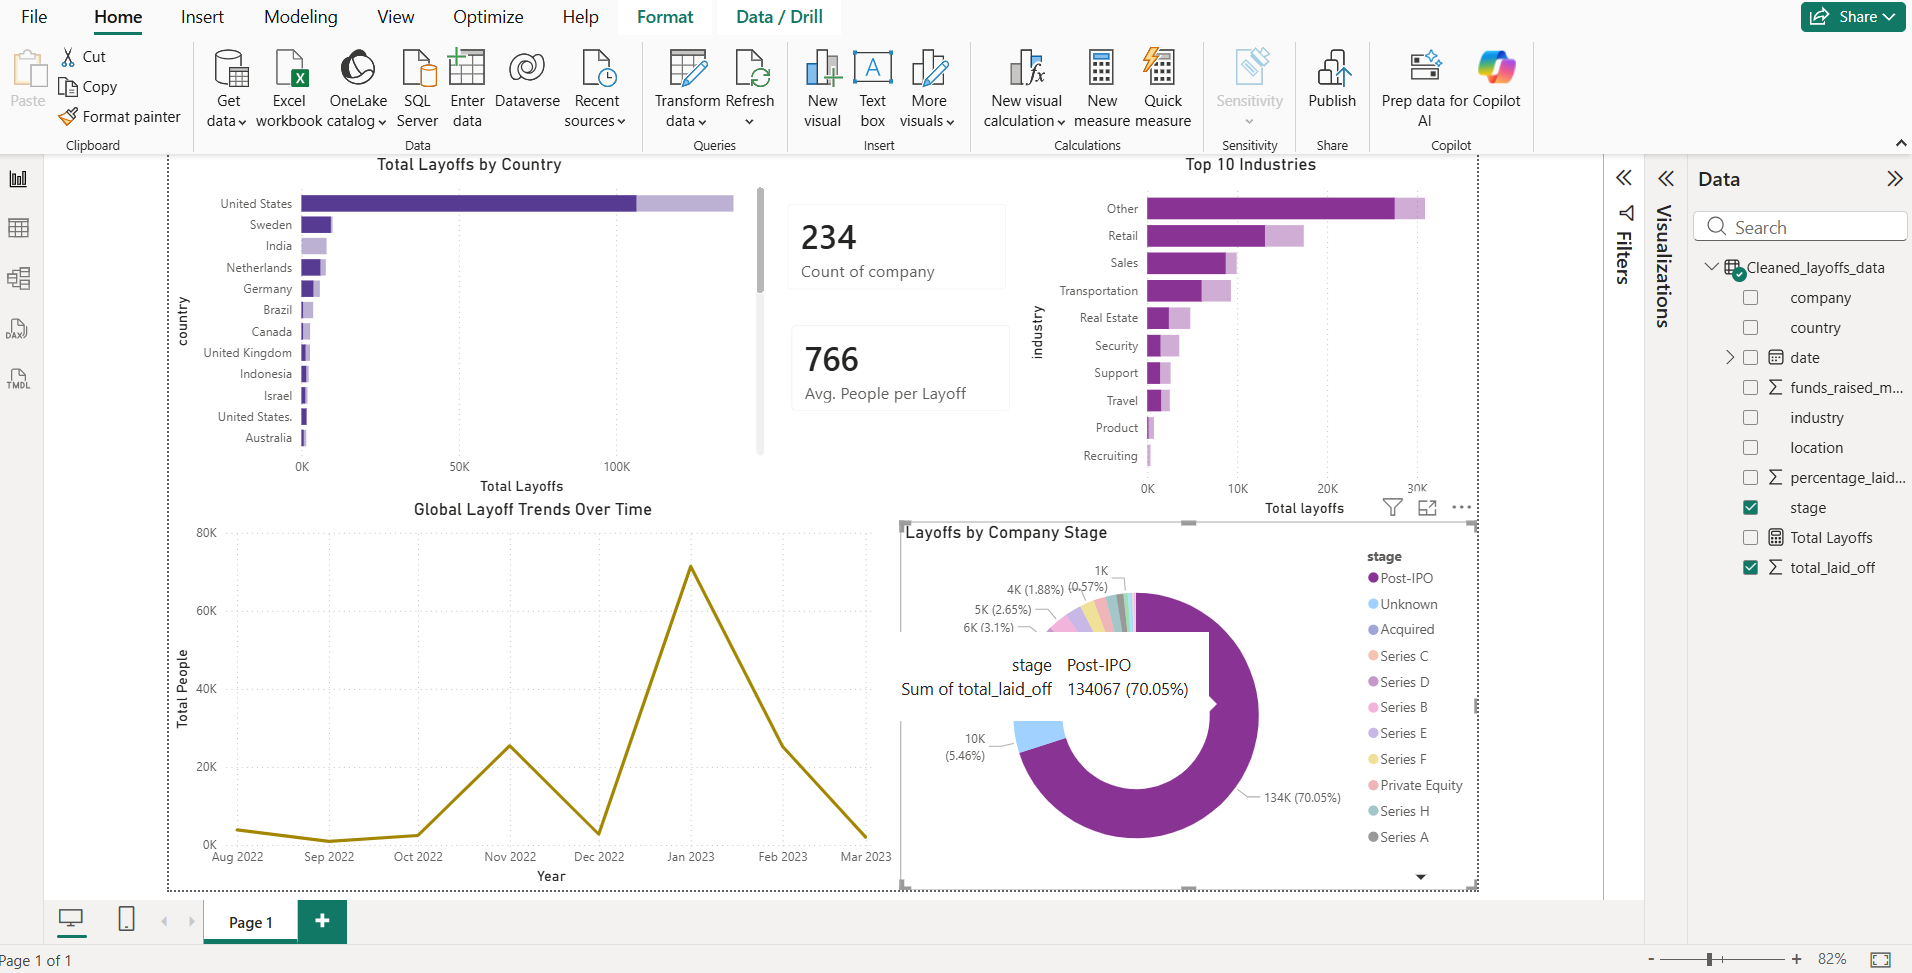

The page's visual inventory and layout, read from the dashboard file:
{"tool":"powerbi","page":{"name":"Page 1","canvas":[1280,720],"ordinal":0},"visuals":[{"type":"lineChart","title":"Global Layoff Trends Over Time","fields":{"Y":["Sum(Cleaned_layoffs_data.total_laid_off)"],"Category":["Cleaned_layoffs_data.date.Variation.Date Hierarchy.Year","Cleaned_layoffs_data.date.Variation.Date Hierarchy.Quarter","Cleaned_layoffs_data.date.Variation.Date Hierarchy.Month"]},"box":[0,337.8,712.7,382.5],"z":0},{"type":"barChart","title":"Total Layoffs by Country","fields":{"Category":["Cleaned_layoffs_data.country"],"Y":["Cleaned_layoffs_data.Total Layoffs"]},"box":[0,0,587.7,337.8],"z":1000},{"type":"barChart","title":"Top 10 Industries","fields":{"Category":["Cleaned_layoffs_data.industry"],"Y":["Sum(Cleaned_layoffs_data.total_laid_off)"]},"box":[836.3,0,443.7,359.5],"z":2000},{"type":"cardVisual","fields":{"Data":["CountNonNull(Cleaned_layoffs_data.company)"]},"box":[587.7,31.9,248.6,118.6],"z":4000},{"type":"cardVisual","fields":{"Data":["Avg(Cleaned_layoffs_data.total_laid_off)"]},"box":[591.6,150.4,248.6,118.6],"z":5000},{"type":"donutChart","title":"Layoffs by Company Stage","fields":{"Category":["Cleaned_layoffs_data.stage"],"Y":["Sum(Cleaned_layoffs_data.total_laid_off)"]},"box":[715.2,359.5,564.8,360.8],"z":6000}]}

Visuals, with their boxes on the page's 1280x720 design canvas (x1, y1, x2, y2). These are canvas units, not pixel positions in the 1912x973 screenshot, which may show the page scaled, cropped or inside an application window:
"Global Layoff Trends Over Time" lineChart: (0,338,713,720)
"Total Layoffs by Country" barChart: (0,0,588,338)
"Top 10 Industries" barChart: (836,0,1280,360)
cardVisual - CountNonNull(Cleaned_layoffs_data.company): (588,32,836,150)
cardVisual - Avg(Cleaned_layoffs_data.total_laid_off): (592,150,840,269)
"Layoffs by Company Stage" donutChart: (715,360,1280,720)
